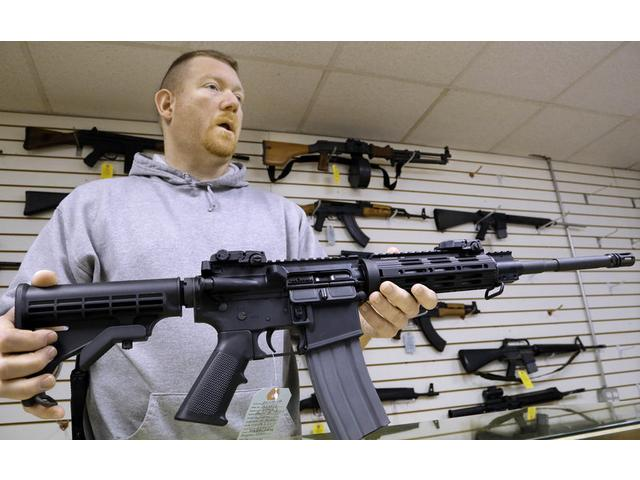rifle: (8, 242, 639, 441), (259, 133, 451, 187), (454, 335, 611, 379), (431, 203, 583, 241), (309, 197, 427, 244)
